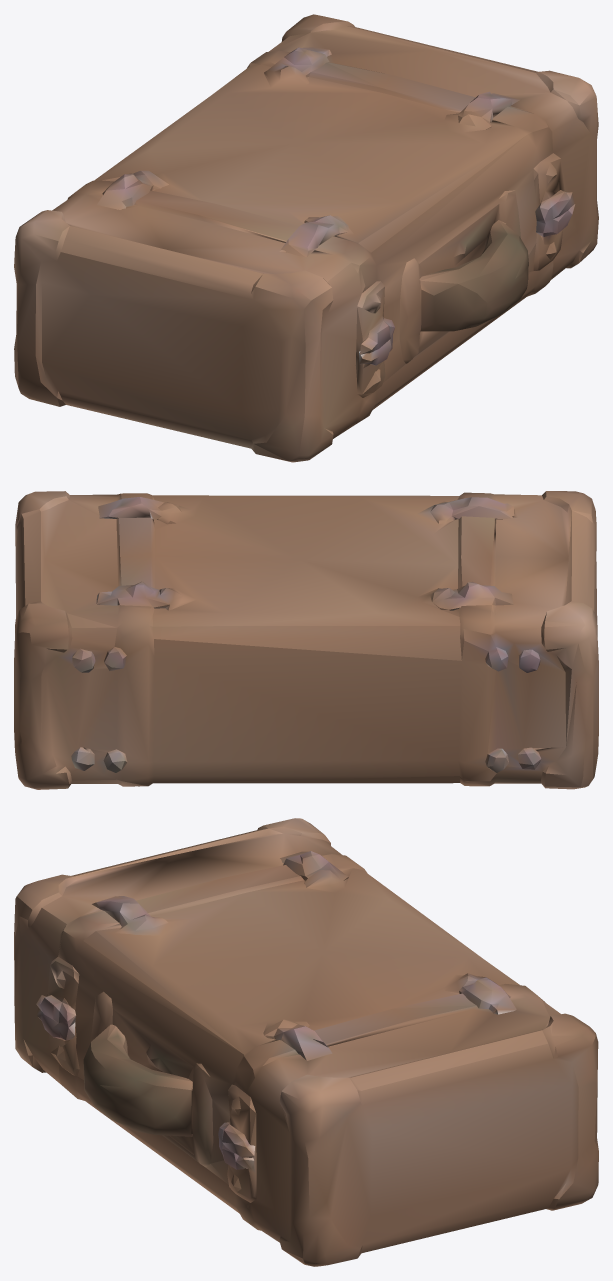
File: SuitCase01.fbx
3 views of the same model, one above another, from view 1: azimuth 30°, elevation 25°; view 2: azimuth 150°, elevation 25°; view 3: azimuth 270°, elevation 25° (orthographic). The views are drawn at different scales.
Parts seen in each view (by area): view 1: SuitCase; view 2: SuitCase; view 3: SuitCase.
Part boxes in pixels (x1=…): SuitCase: x1=14, y1=14, x2=598, y2=462; SuitCase: x1=14, y1=491, x2=598, y2=789; SuitCase: x1=14, y1=818, x2=598, y2=1266.
Size of the model in its own units: 84.22 by 28.5 by 72.72.
